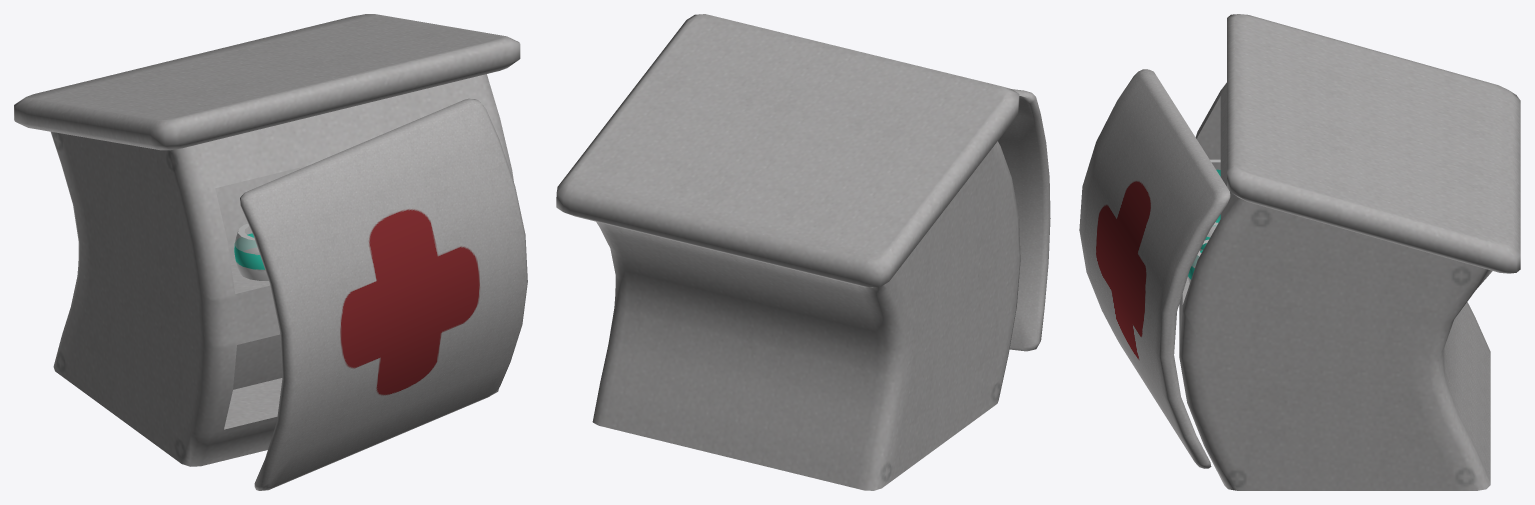
The model's file is Cabinet_OL.glb.
The picture shows the model from 3 angles, left to right: view 1: azimuth 30°, elevation 25°; view 2: azimuth 150°, elevation 25°; view 3: azimuth 270°, elevation 25°; orthographic projection. The views are drawn at different scales.
Parts seen in each view (by area): view 1: Cube.001, Cube.002, Cylinder.008; view 2: Cube.001, Cube.002; view 3: Cube.001, Cube.002.
Part boxes in pixels (x1,y1,x2,y2): Cube.001: (14,14,520,466); Cube.002: (240,98,527,490); Cylinder.008: (234,223,268,280); Cube.001: (556,14,1020,490); Cube.002: (998,89,1050,351); Cube.001: (1179,14,1520,490); Cube.002: (1079,69,1230,468).
Bounding box in the file's own units: 1.38 × 1.26 × 1.54.
5 materials, 5 textured.
